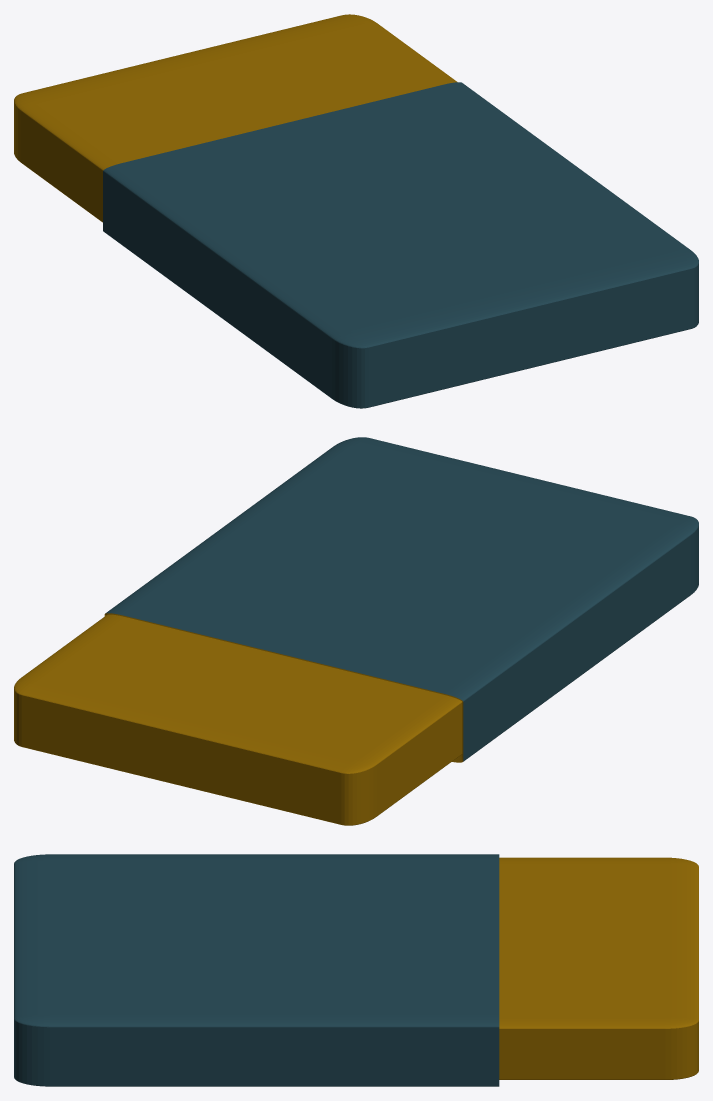
File: usb.fbx
3 views of the same model, one above another, from view 1: azimuth 30°, elevation 25°; view 2: azimuth 150°, elevation 25°; view 3: azimuth 270°, elevation 25° (orthographic).
Parts seen in each view (by area): view 1: Cube.017; view 2: Cube.017; view 3: Cube.017.
Boxes of the visible parts, box(x1,y1,x2,y2) form: Cube.017: box(14, 14, 698, 408); Cube.017: box(14, 437, 698, 825); Cube.017: box(14, 854, 698, 1086).
Bounding box in the file's own units: 0.6977 × 0.1236 × 1.17.
Materials: 2 (2 with a texture image).
